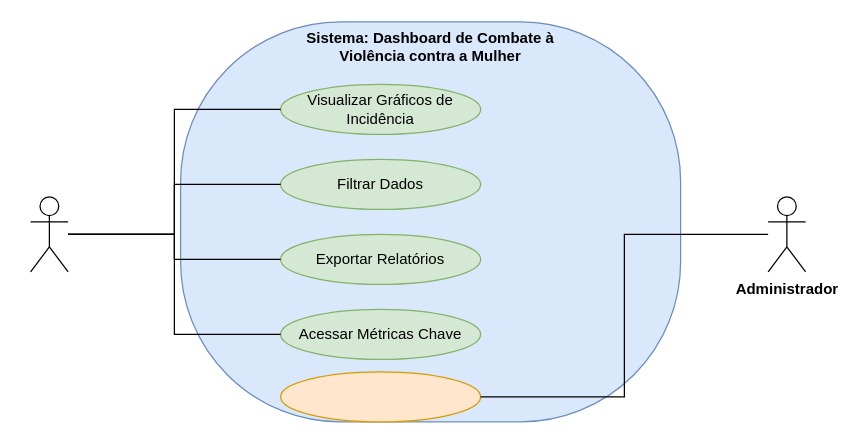
This 860x444 diagram has some shape labels left out. Here are the shapes that lost their labels. From the top down, the centre of each, then its label:
At [48,234]: "Usuário".
At [380,396]: "Gerenciar Dados".
